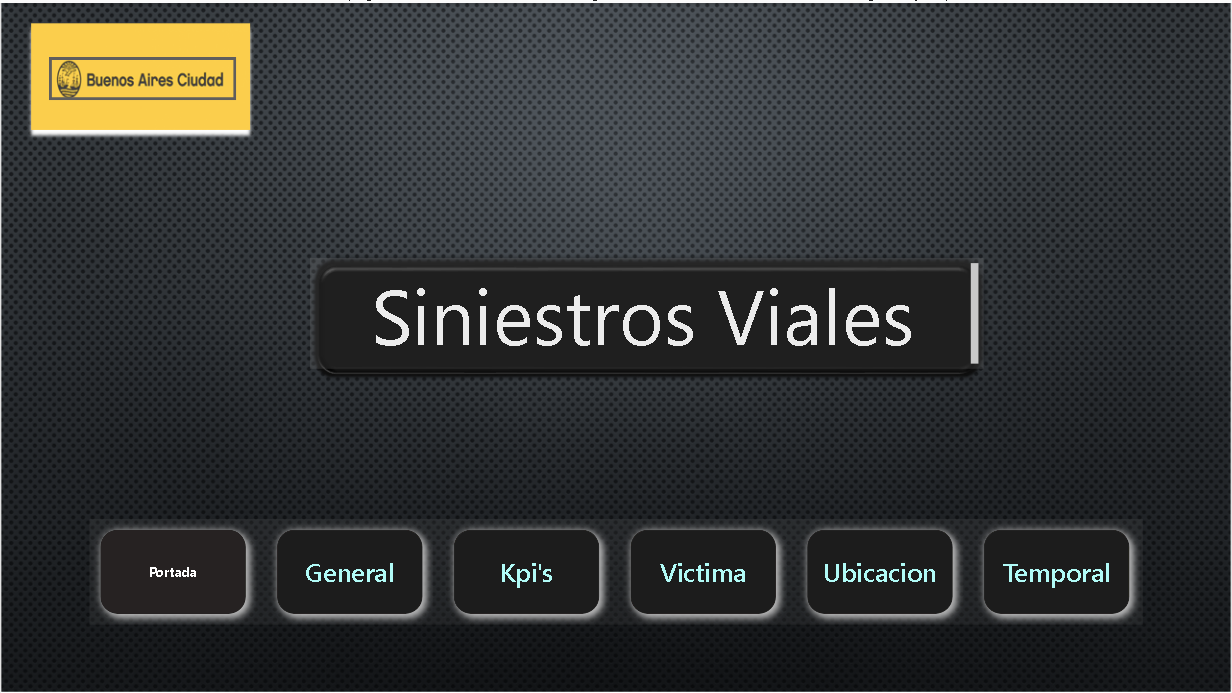

What the dashboard file says about the page in this screenshot:
{"tool":"powerbi","page":{"name":"Portada","canvas":[1280,720],"ordinal":0},"visuals":[{"type":"pageNavigator","box":[91.7,536.7,1096.7,110],"z":0}]}

Visuals, with their boxes in screenshot pixels (x1, y1, x2, y2), scaled from the page's 1280x720 canvas onto the 1232x693 screenshot:
pageNavigator: [88, 517, 1144, 622]
